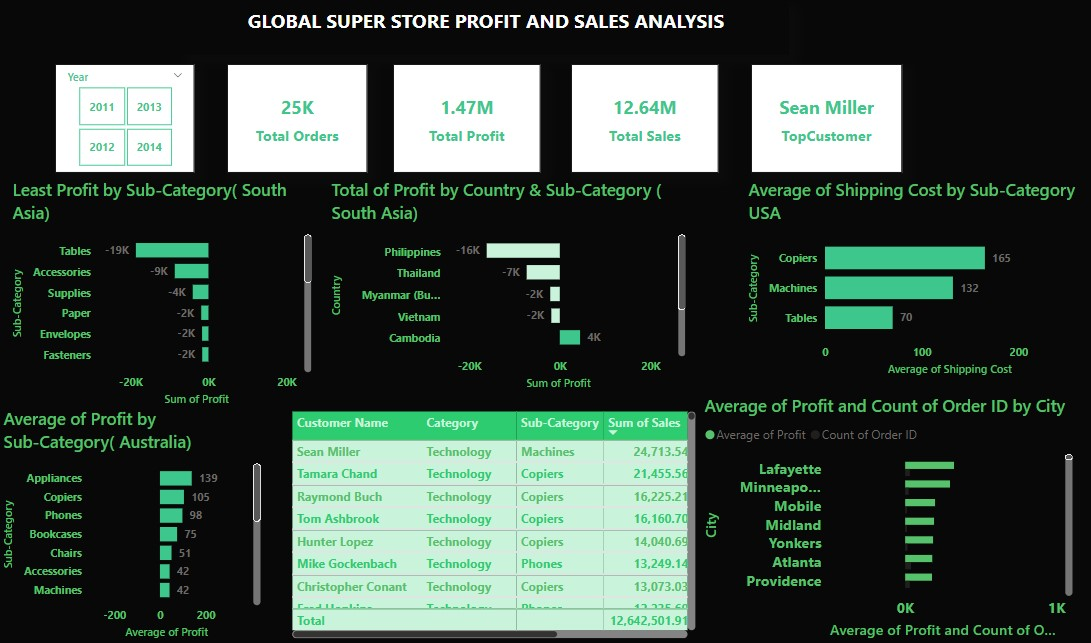

The dashboard page shown, as its layout file describes it:
{"tool":"powerbi","page":{"name":"DASHBOARD 2","canvas":[1280,720],"ordinal":1},"visuals":[{"type":"clusteredBarChart","title":"Average of Shipping Cost by Sub-Category USA","fields":{"Category":["Orders.Sub-Category"],"Y":["Orders.Shipping Cost"]},"box":[827.8,203.3,383.3,224.4],"z":1000},{"type":"textbox","box":[204.4,8.9,673.3,57.8],"z":4000},{"type":"card","fields":{"Values":["Orders.Profit"]},"box":[438,77,164,121],"z":5000},{"type":"card","fields":{"Values":["Orders.Total Orders"]},"box":[253,77,156,121],"z":6000},{"type":"card","fields":{"Values":["Orders.Sales"]},"box":[636,77,164,121],"z":7000},{"type":"card","fields":{"Values":["Orders.TopCustomer"]},"box":[835,77,168,121],"z":8000},{"type":"slicer","fields":{"Values":["Orders.Order Date.Variation.Date Hierarchy.Year"]},"box":[62,77,155,121],"z":9000},{"type":"clusteredBarChart","title":"Least Profit by Sub-Category( South Asia)","fields":{"Category":["Orders.Sub-Category"],"Y":["Orders.Profit"]},"box":[10,203.3,342.2,257.8],"z":10000},{"type":"clusteredBarChart","title":"Total of Profit by Country & Sub-Category ( South Asia)","fields":{"Category":["Orders.Country"],"Y":["Orders.Profit"]},"box":[364.4,203.3,403.3,240],"z":11000},{"type":"clusteredBarChart","fields":{"Category":["Orders.City"],"Y":["Orders.Profit","Orders.Order ID"]},"box":[778.9,443.3,418.9,276.7],"z":12000},{"type":"clusteredBarChart","title":"Average of Profit by Sub-Category( Australia)","fields":{"Category":["Orders.Sub-Category"],"Y":["Orders.Profit"]},"box":[0,457.8,295.6,262.2],"z":13000},{"type":"tableEx","fields":{"Values":["Orders.Customer Name","Orders.Category","Orders.Sub-Category","Orders.Sales","Orders.Profit","Orders.Quantity"]},"box":[320,457.8,458.9,262.2],"z":14001}]}

Visuals, with their boxes on the page's 1280x720 design canvas (x1, y1, x2, y2). These are canvas units, not pixel positions in the 1091x643 screenshot, which may show the page scaled, cropped or inside an application window:
"Average of Shipping Cost by Sub-Category USA" clusteredBarChart: [left=828, top=203, right=1211, bottom=428]
textbox: [left=204, top=9, right=878, bottom=67]
card - Orders.Profit: [left=438, top=77, right=602, bottom=198]
card - Orders.Total Orders: [left=253, top=77, right=409, bottom=198]
card - Orders.Sales: [left=636, top=77, right=800, bottom=198]
card - Orders.TopCustomer: [left=835, top=77, right=1003, bottom=198]
slicer - Orders.Order Date.Variation.Date Hierarchy.Year: [left=62, top=77, right=217, bottom=198]
"Least Profit by Sub-Category( South Asia)" clusteredBarChart: [left=10, top=203, right=352, bottom=461]
"Total of Profit by Country & Sub-Category ( South Asia)" clusteredBarChart: [left=364, top=203, right=768, bottom=443]
clusteredBarChart - Orders.City x Orders.Profit: [left=779, top=443, right=1198, bottom=720]
"Average of Profit by Sub-Category( Australia)" clusteredBarChart: [left=0, top=458, right=296, bottom=720]
tableEx - Orders.Customer Name x Orders.Category: [left=320, top=458, right=779, bottom=720]
